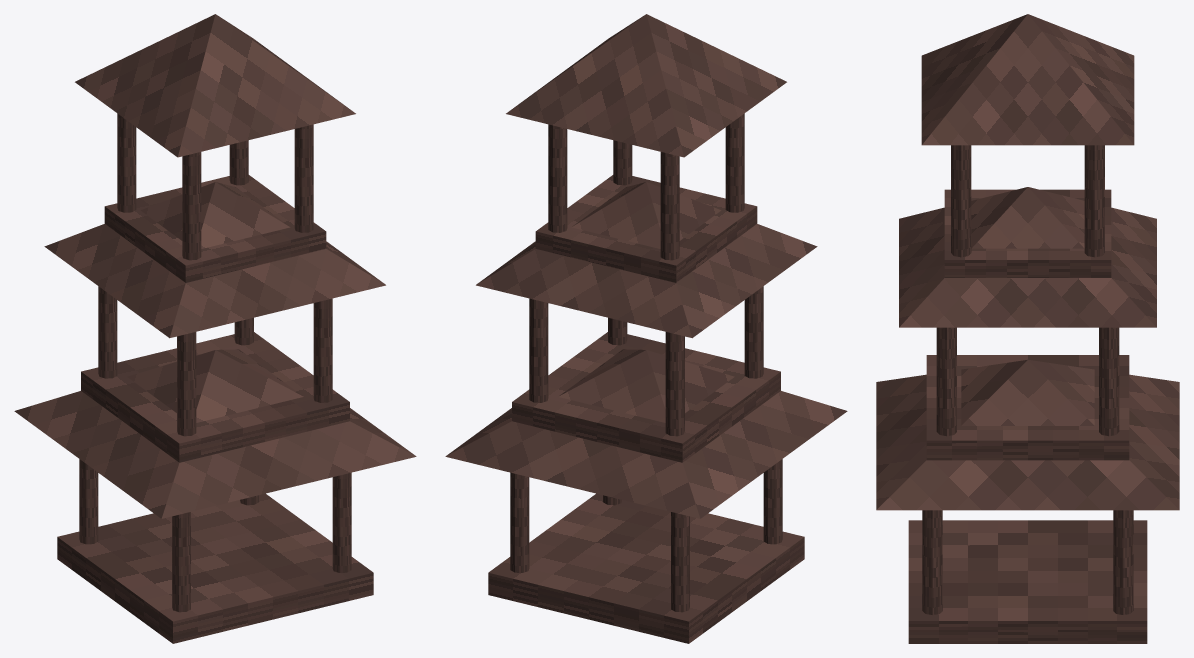
The model's file is pagoda_16.glb.
The picture shows the model from 3 angles, left to right: view 1: azimuth 30°, elevation 25°; view 2: azimuth 150°, elevation 25°; view 3: azimuth 270°, elevation 25°; orthographic projection. The views are drawn at different scales.
Parts seen in each view (by area): view 1: Roof, Floor, Roof.001, Roof.002, Floor.001, Floor.002, Column.008, Column.010, Column.004, Column.006, Column.002, Column (+4 smaller); view 2: Roof, Floor, Roof.001, Roof.002, Floor.001, Floor.002, Column.009, Column.011, Column.005, Column.007, Column.003, Column.001 (+4 smaller); view 3: Roof, Floor, Roof.001, Roof.002, Floor.001, Floor.002, Column.010, Column.011, Column.006, Column.007, Column.002, Column.003.
Part boxes in pixels (x1,y1,x2,y2): Roof: (14, 349, 416, 518); Floor: (57, 493, 373, 643); Roof.001: (44, 182, 385, 338); Roof.002: (75, 14, 355, 157); Floor.001: (81, 332, 349, 462); Floor.002: (104, 175, 326, 282); Column.008: (182, 152, 201, 260); Column.010: (294, 124, 313, 232); Column.004: (177, 332, 196, 436); Column.006: (313, 298, 332, 402); Column.002: (332, 472, 351, 572); Column: (172, 512, 190, 612); Roof: (445, 349, 847, 518); Floor: (488, 493, 804, 643); Roof.001: (476, 182, 817, 338); Roof.002: (506, 14, 786, 157); Floor.001: (512, 332, 780, 462); Floor.002: (535, 175, 757, 282); Column.009: (660, 152, 679, 260); Column.011: (548, 124, 567, 232); Column.005: (665, 332, 684, 436); Column.007: (529, 298, 548, 402); Column.003: (510, 472, 529, 572); Column.001: (671, 512, 689, 612); Roof: (876, 359, 1179, 510); Floor: (908, 520, 1147, 643); Roof.001: (899, 187, 1156, 327); Roof.002: (921, 14, 1134, 145); Floor.001: (926, 355, 1129, 460); Floor.002: (944, 189, 1111, 277); Column.010: (951, 145, 971, 257); Column.011: (1084, 145, 1104, 257); Column.006: (936, 327, 956, 436); Column.007: (1099, 327, 1119, 436); Column.002: (922, 510, 942, 614); Column.003: (1113, 510, 1133, 614).
Bounding box in the file's own units: 3.59 × 7.55 × 3.59.
Materials: 1 (1 with a texture image).
